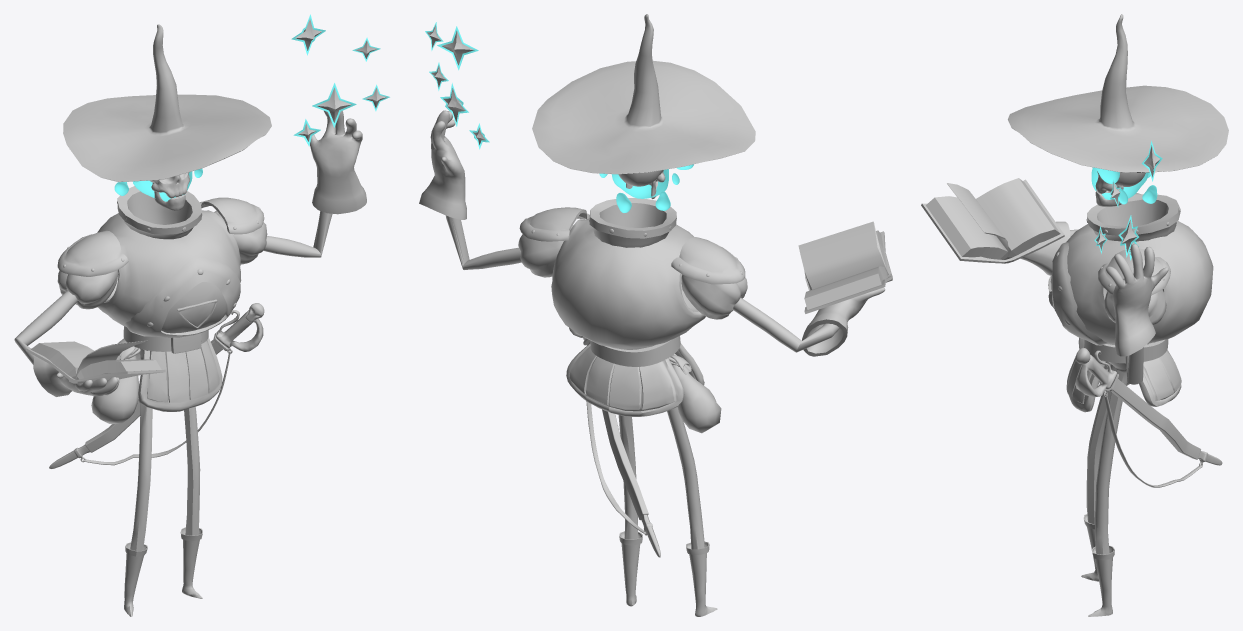
3 renders of one model, left to right at view 1: azimuth 30°, elevation 25°; view 2: azimuth 150°, elevation 25°; view 3: azimuth 270°, elevation 25°, orthographic. The views are drawn at different scales.
Visible parts, largest first — view 1: mage_skeelton; view 2: mage_skeelton; view 3: mage_skeelton.
Boxes of the visible parts, x1=… form: mage_skeelton: x1=14, y1=14, x2=389, y2=616; mage_skeelton: x1=419, y1=14, x2=892, y2=616; mage_skeelton: x1=921, y1=14, x2=1228, y2=616.
Bounding box in the file's own units: 0.3148 × 0.4302 × 0.2038.
